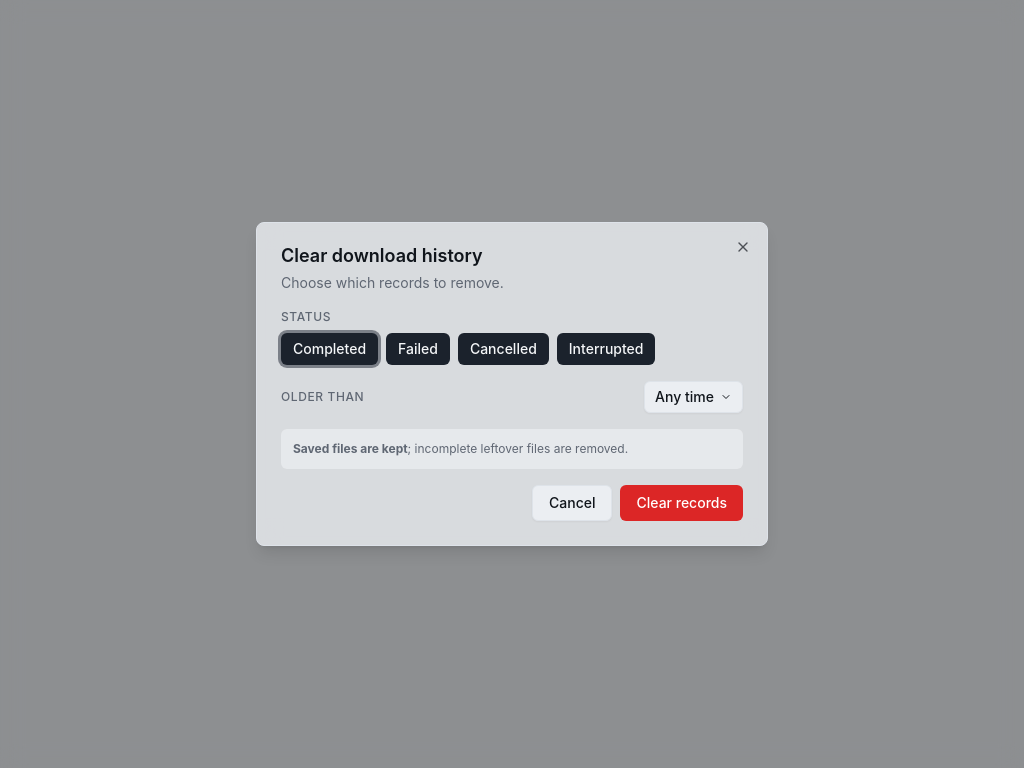
Test: ClearHistoryDialog › disables 'Clear records' when zero status chips are selected
Click the button "Completed": (330, 349) x1=281 y1=333 x2=378 y2=365
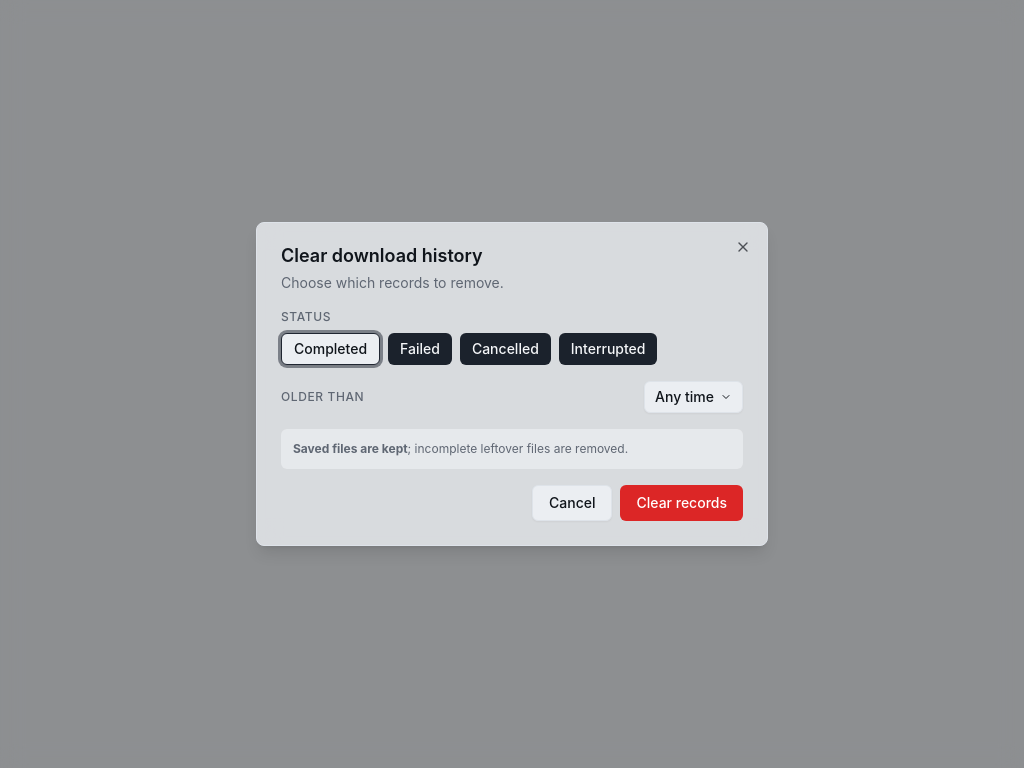
Click the button "Failed": (420, 349) x1=388 y1=333 x2=452 y2=365
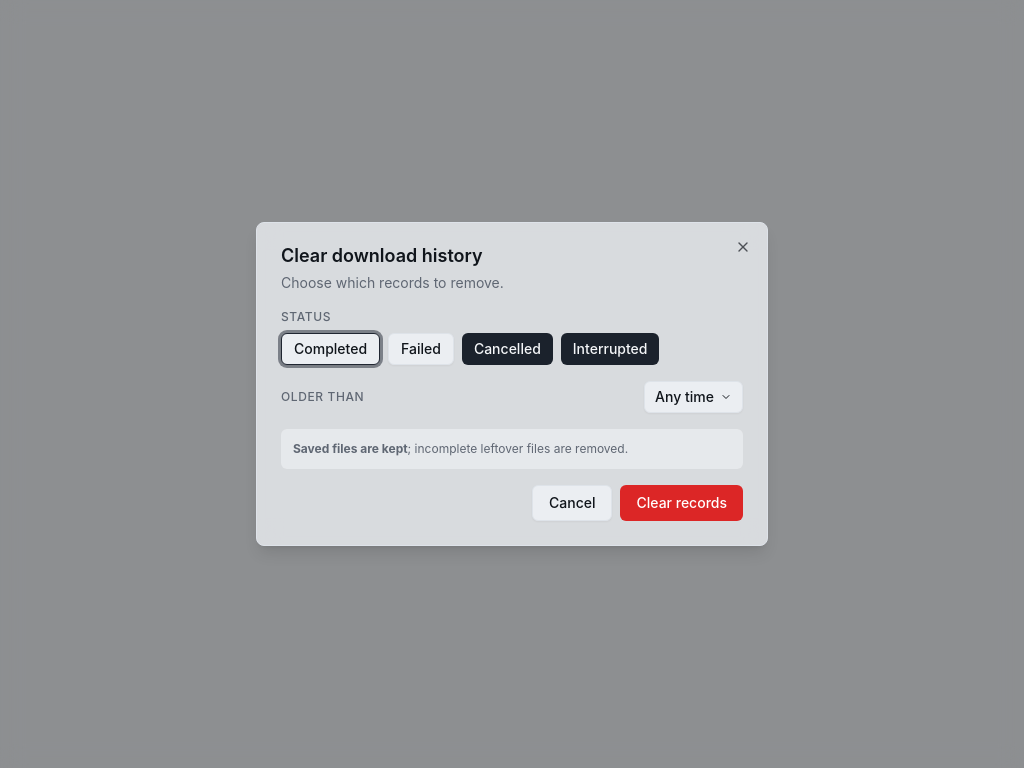
Click the button "Cancelled": (507, 349) x1=462 y1=333 x2=553 y2=365
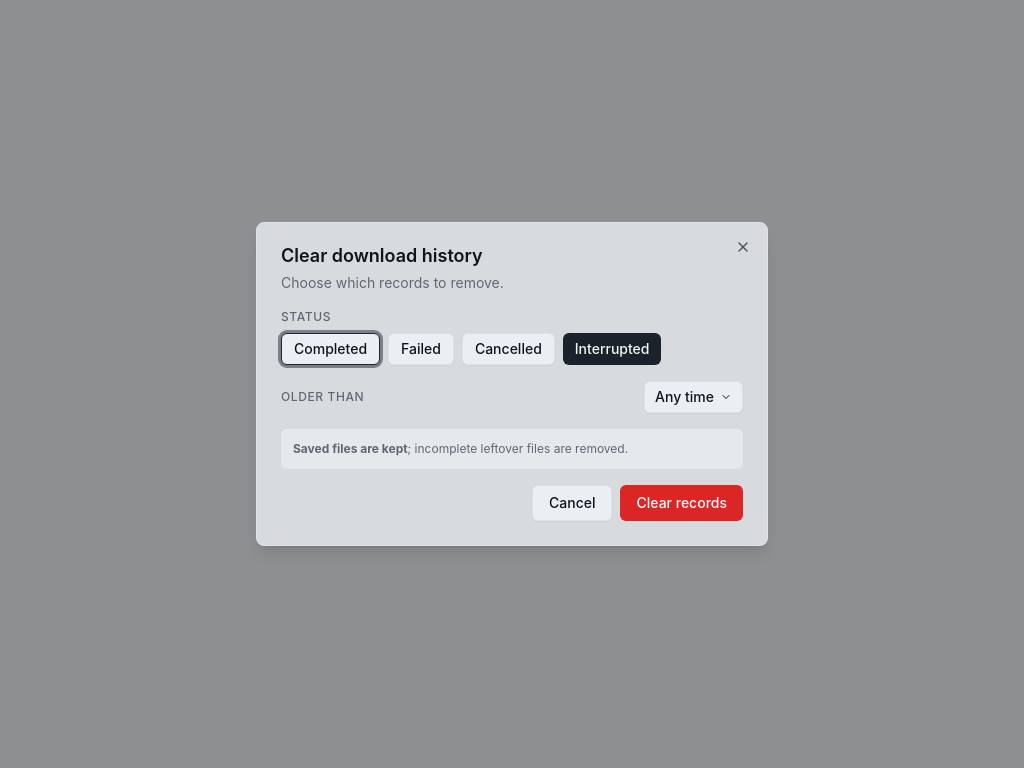
Click the button "Interrupted": (612, 349) x1=563 y1=333 x2=662 y2=365
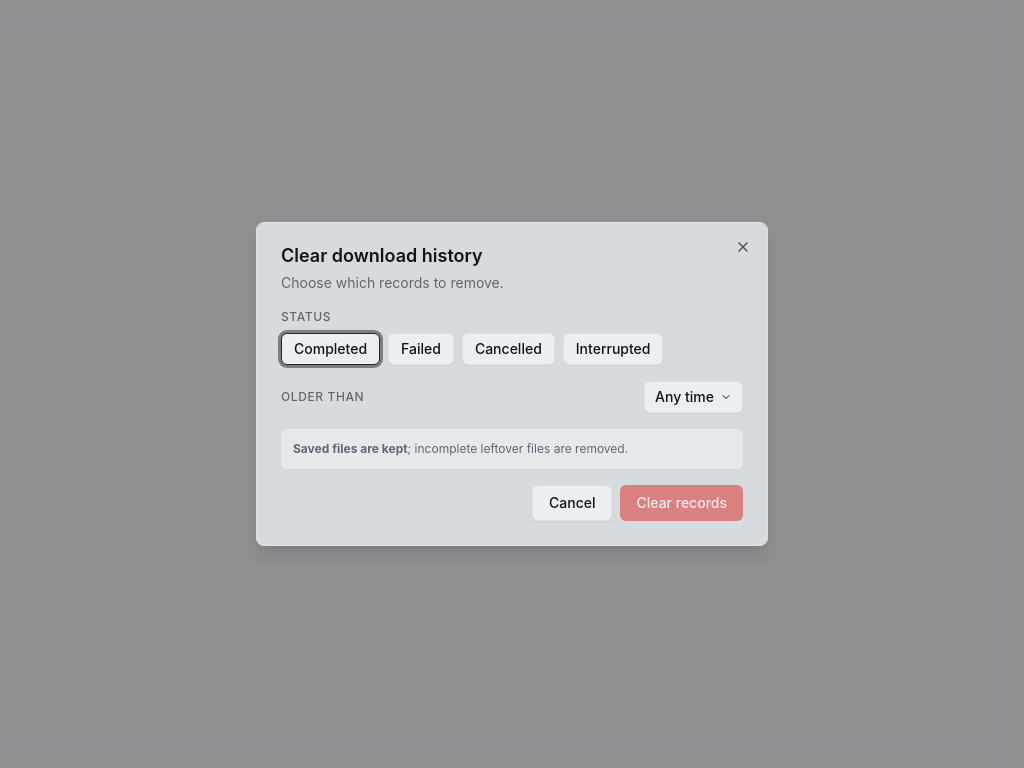
Now the button "Clear records" is disabled, box x1=620 y1=485 x2=743 y2=521
